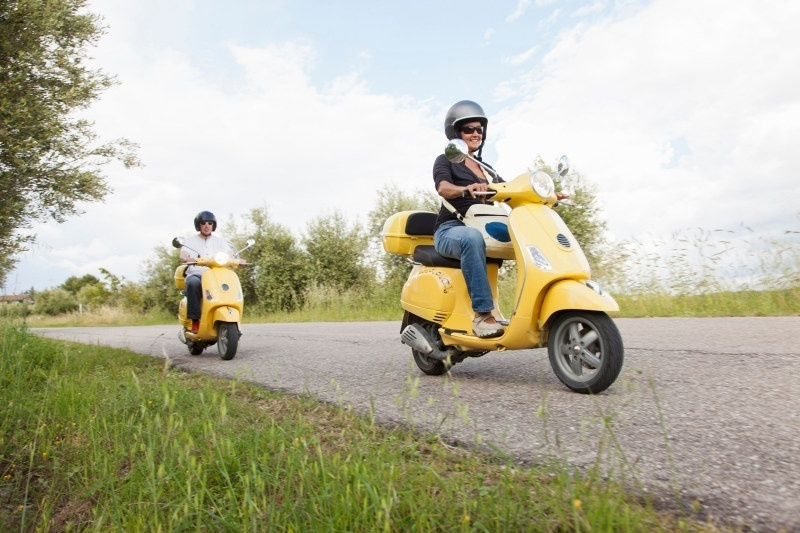non-vehicle: (384, 155, 637, 392), (171, 243, 246, 356)
